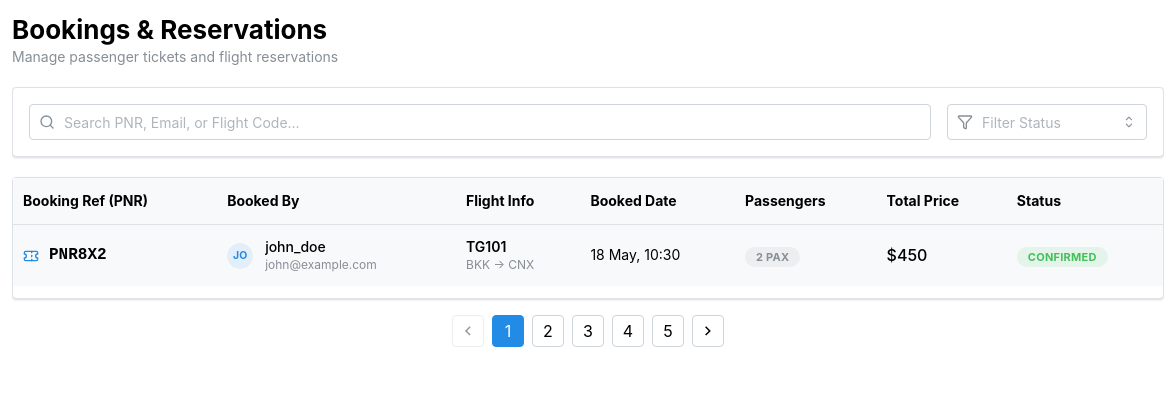
Test: BookingTable Component › filters bookings by search term
Type "NONEXISTENT" into the field with placeholder "Search PNR, Email, or Flight Code..." at (480, 122), box [29,104,931,140]
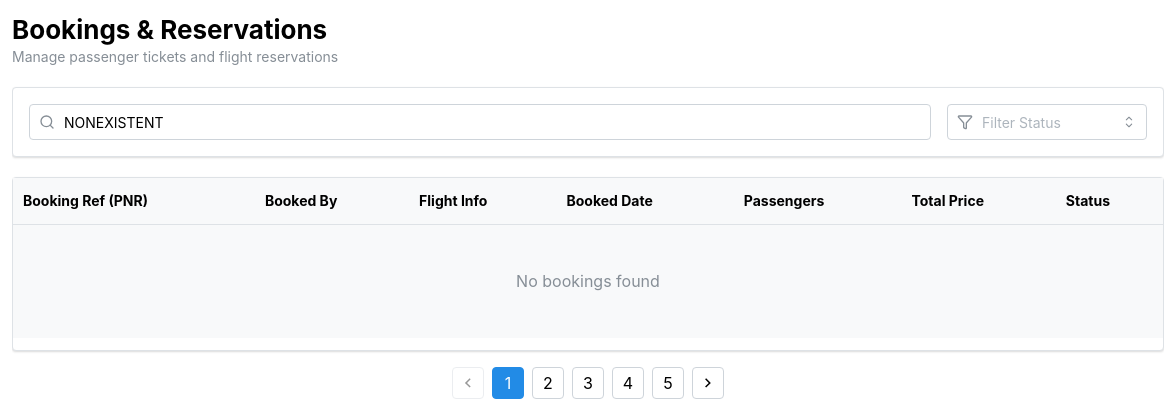
Expected: the text "No bookings found" is shown, [516,271,660,291]
